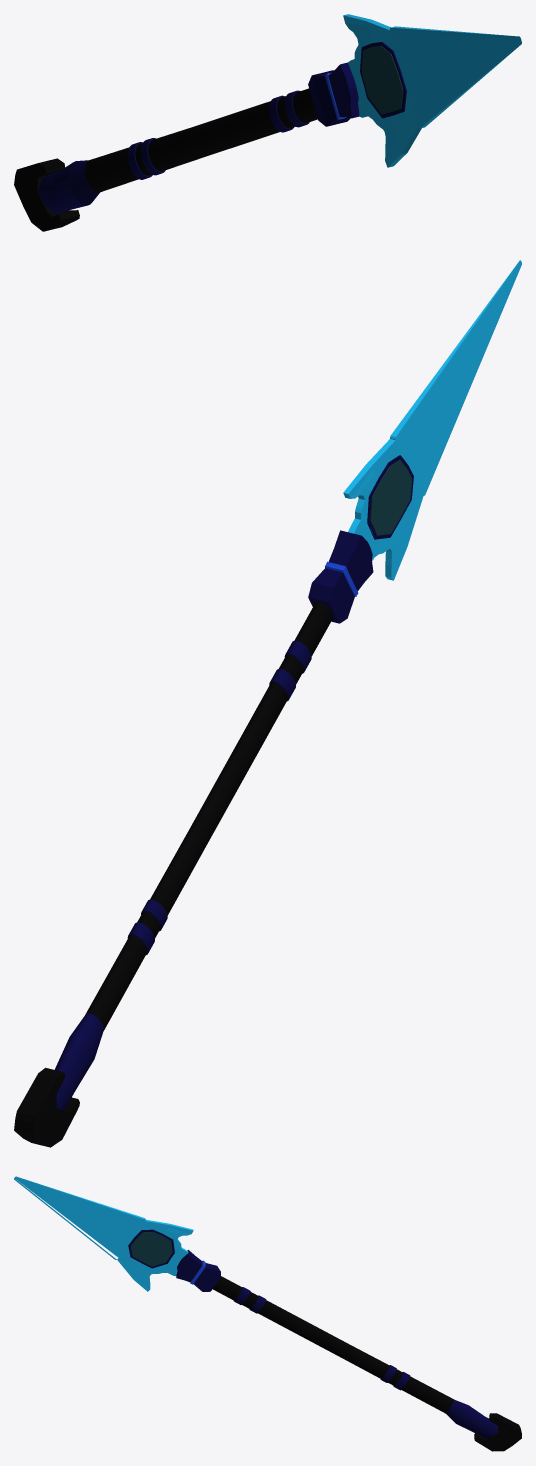
The model's file is spear.glb.
3 renders of one model, top to bottom at view 1: azimuth 30°, elevation 25°; view 2: azimuth 150°, elevation 25°; view 3: azimuth 270°, elevation 25°, orthographic. The views are drawn at different scales.
Parts seen in each view (by area): view 1: Cube.060; view 2: Cube.060; view 3: Cube.060.
Boxes of the visible parts, left/top/right/bottom form: Cube.060: left=14, top=14, right=521, bottom=231; Cube.060: left=14, top=260, right=521, bottom=1147; Cube.060: left=14, top=1176, right=521, bottom=1451.
Bounding box in the file's own units: 0.0396 × 0.8883 × 1.5.
